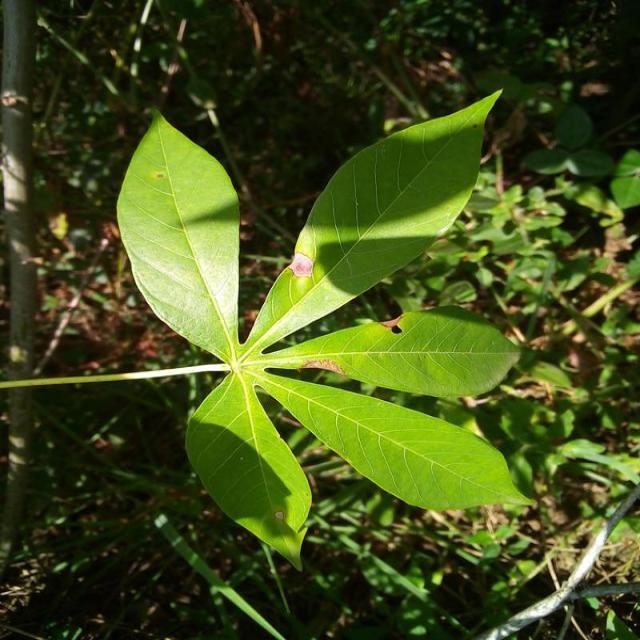cassava leaf: (116, 86, 534, 570), (240, 86, 505, 360), (250, 366, 538, 512), (116, 105, 242, 364), (185, 368, 312, 572), (258, 303, 522, 399)
